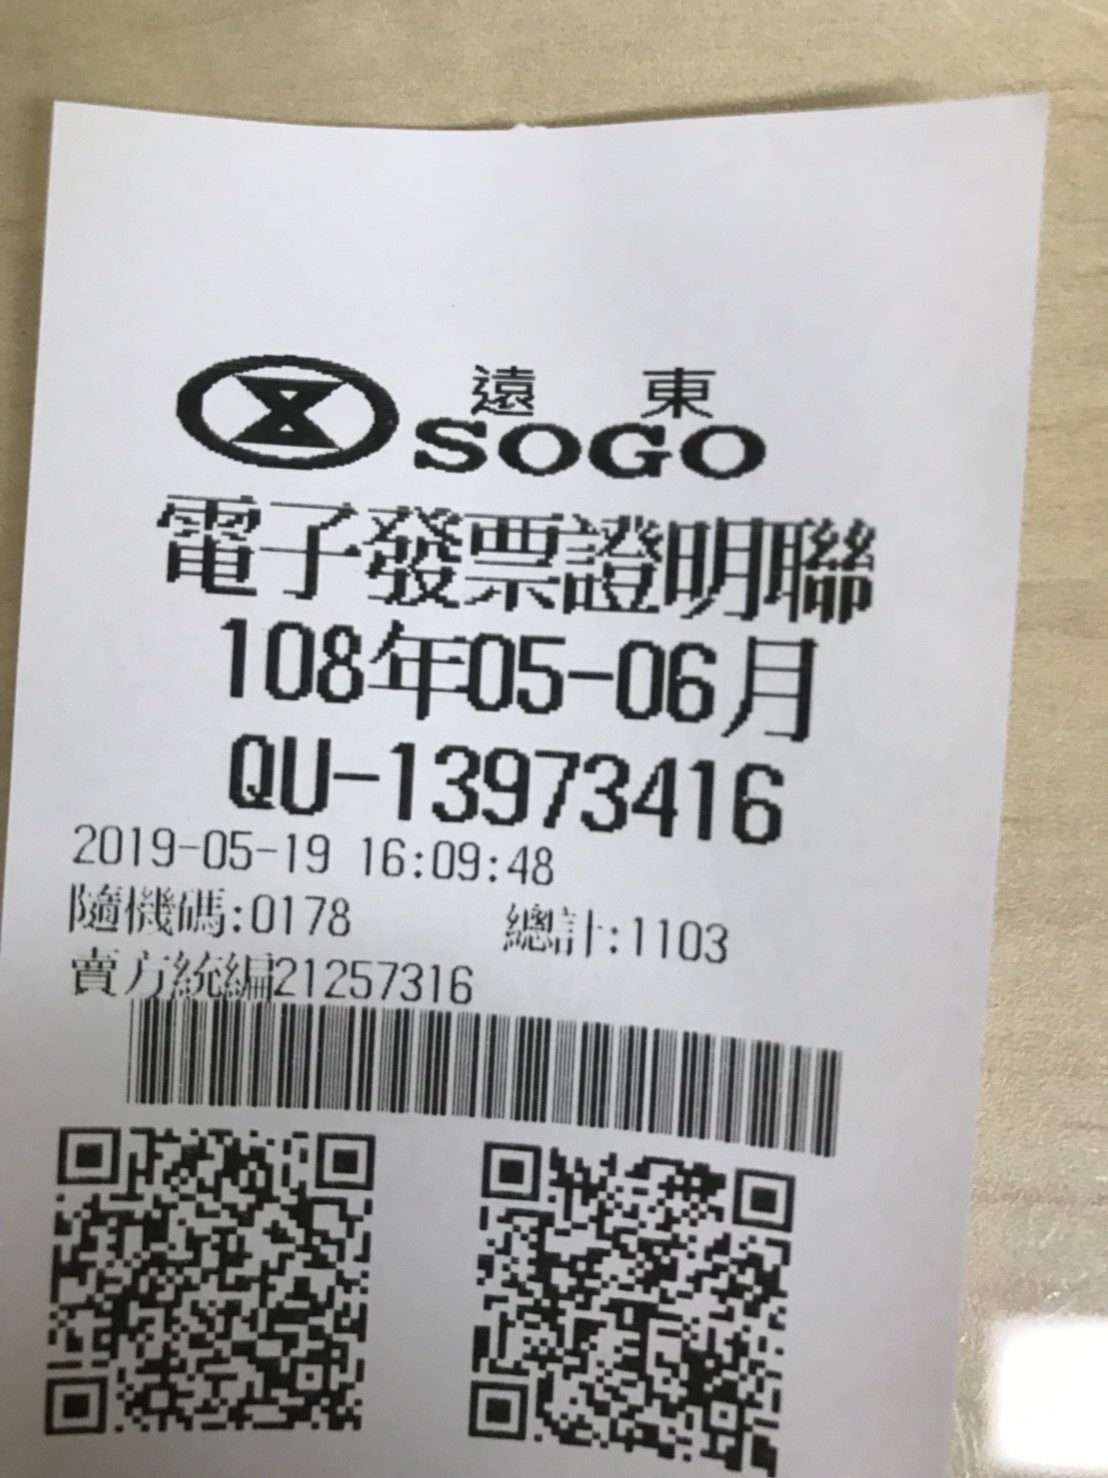Date_New: (219, 603, 824, 748)
Number_New: (388, 736, 795, 853)
